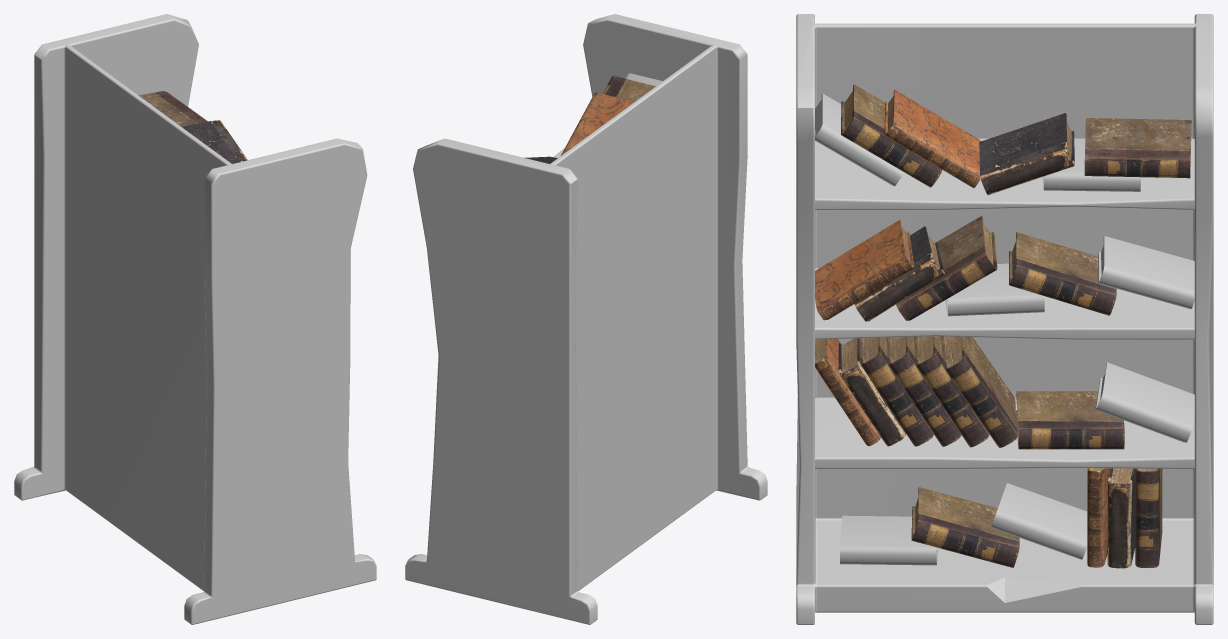
File: BookShelfAndBooks.fbx
3 views of the same model, side by side, from view 1: azimuth 30°, elevation 25°; view 2: azimuth 150°, elevation 25°; view 3: azimuth 270°, elevation 25° (orthographic). The views are drawn at different scales.
Visible parts, largest first — view 1: Bookshelf.001, Book2.002, Book1.004; view 2: Bookshelf.001, Book3.002, Book1.003; view 3: Bookshelf.001, Book1.004, Book1.011, Book1.002, Book1.010, Book3.001, Book2.002, Book3.002, Book.007, Book.002, Book1.009, Book.006 (+15 smaller).
Boxes of the visible parts, <box> form: Bookshelf.001: <box>14,14,376,624</box>; Book2.002: <box>181,120,247,163</box>; Book1.004: <box>138,91,207,126</box>; Bookshelf.001: <box>405,14,767,624</box>; Book3.002: <box>561,92,633,155</box>; Book1.003: <box>603,76,655,101</box>; Bookshelf.001: <box>796,14,1213,624</box>; Book1.004: <box>1084,118,1191,178</box>; Book1.011: <box>1016,391,1124,449</box>; Book1.002: <box>1009,232,1116,315</box>; Book1.010: <box>911,487,1019,567</box>; Book3.001: <box>815,220,914,320</box>; Book2.002: <box>979,113,1074,195</box>; Book3.002: <box>884,89,981,188</box>; Book.007: <box>1095,362,1194,442</box>; Book.002: <box>1098,236,1194,308</box>; Book1.009: <box>941,336,1018,447</box>; Book.006: <box>991,483,1087,559</box>.
Size of the model in its own units: 1.21 by 2.76 by 2.
